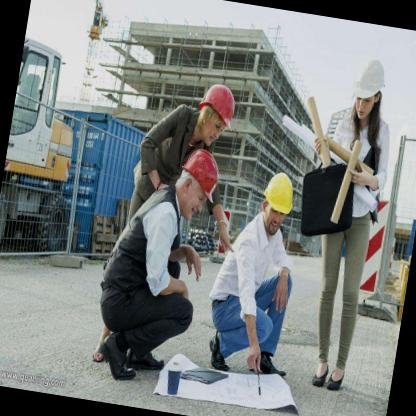capacete: (171, 146, 221, 230), (191, 79, 243, 155), (255, 168, 298, 238), (348, 56, 390, 126)
sem_colete_refletivo: (94, 171, 188, 317), (309, 100, 400, 220), (206, 202, 300, 315), (124, 93, 214, 201)
